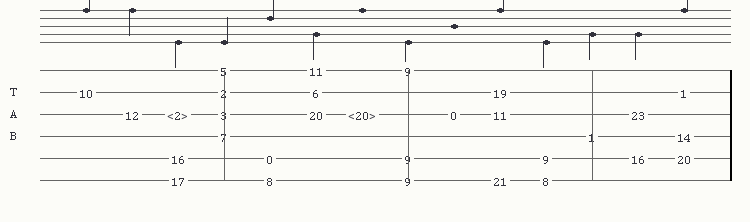0: (266, 152, 277, 164), (450, 108, 461, 120)
1: (588, 130, 599, 142), (680, 86, 691, 98)
10: (79, 86, 97, 98)
11: (309, 64, 327, 76), (493, 108, 511, 120)
12: (125, 108, 143, 120)
14: (677, 130, 695, 142)
16: (171, 152, 189, 164), (631, 152, 649, 164)
17: (171, 174, 189, 186)
19: (493, 86, 511, 98)
2: (220, 86, 231, 98)
20: (309, 108, 327, 120), (677, 152, 695, 164)
21: (493, 174, 511, 186)
23: (631, 108, 649, 120)
3: (220, 108, 231, 120)
5: (220, 64, 231, 76)
6: (312, 86, 323, 98)
7: (220, 130, 231, 142)
8: (266, 174, 277, 186), (542, 174, 553, 186)
9: (404, 64, 415, 76), (404, 174, 415, 186), (404, 152, 415, 164), (542, 152, 553, 164)
harmonic: (348, 108, 380, 120), (167, 108, 192, 120)
